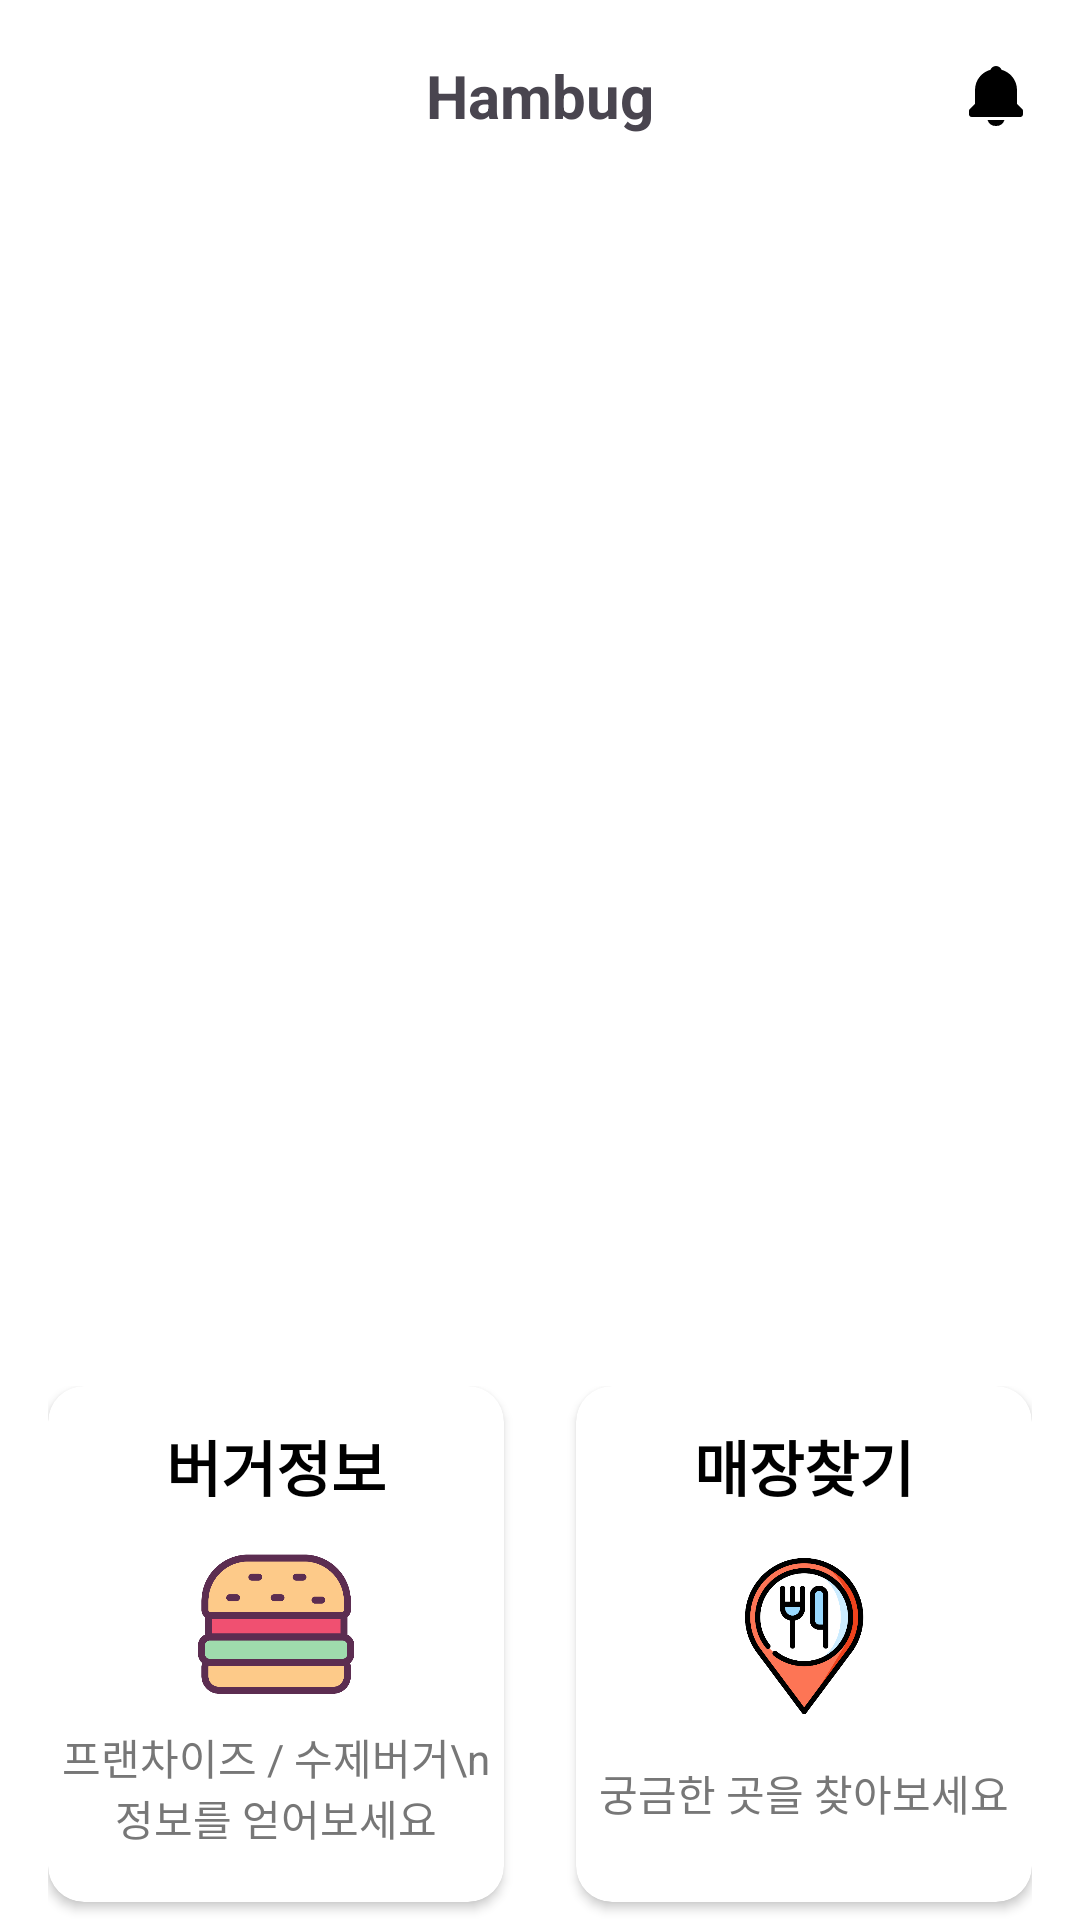

Locate icon controls on the screen. Image size 1080x1920, boxes as (left=x1, top=y1, right=x2, bottom=y2).
burger: (left=198, top=1554, right=354, bottom=1694)
bxs bell: (left=969, top=66, right=1023, bottom=126)
location: (left=745, top=1558, right=864, bottom=1714)
